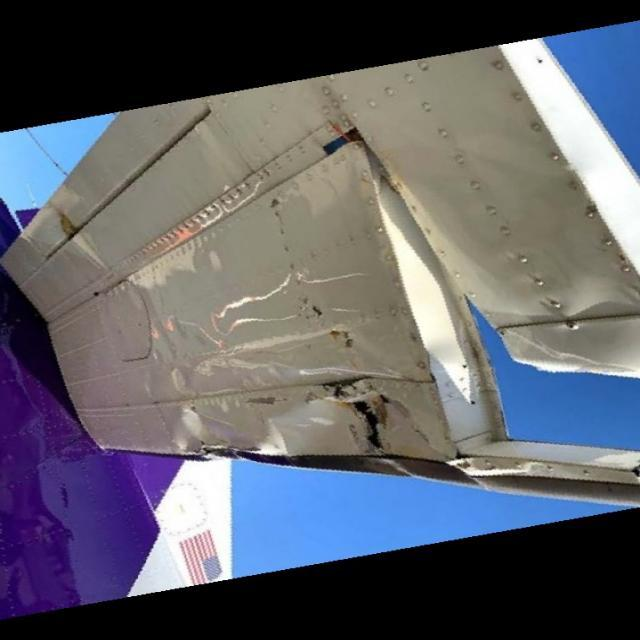dent: (156, 401, 282, 455)
